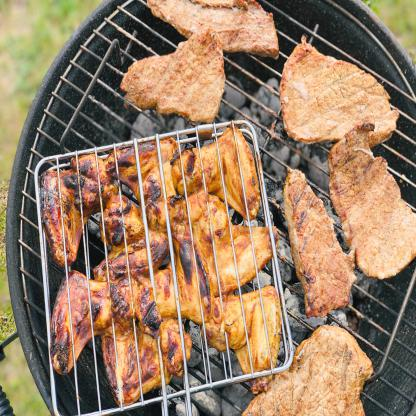Carne: (328, 121, 416, 287), (283, 162, 370, 323), (272, 32, 395, 143), (242, 328, 391, 415), (115, 33, 228, 122)
